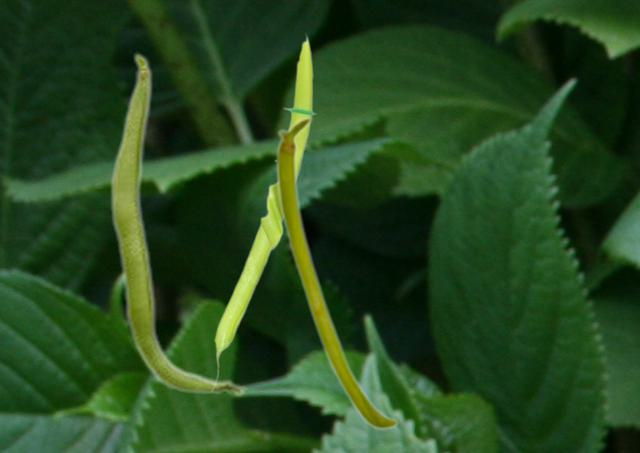french_bean: (108, 51, 246, 397), (275, 115, 398, 430), (210, 32, 316, 392)
